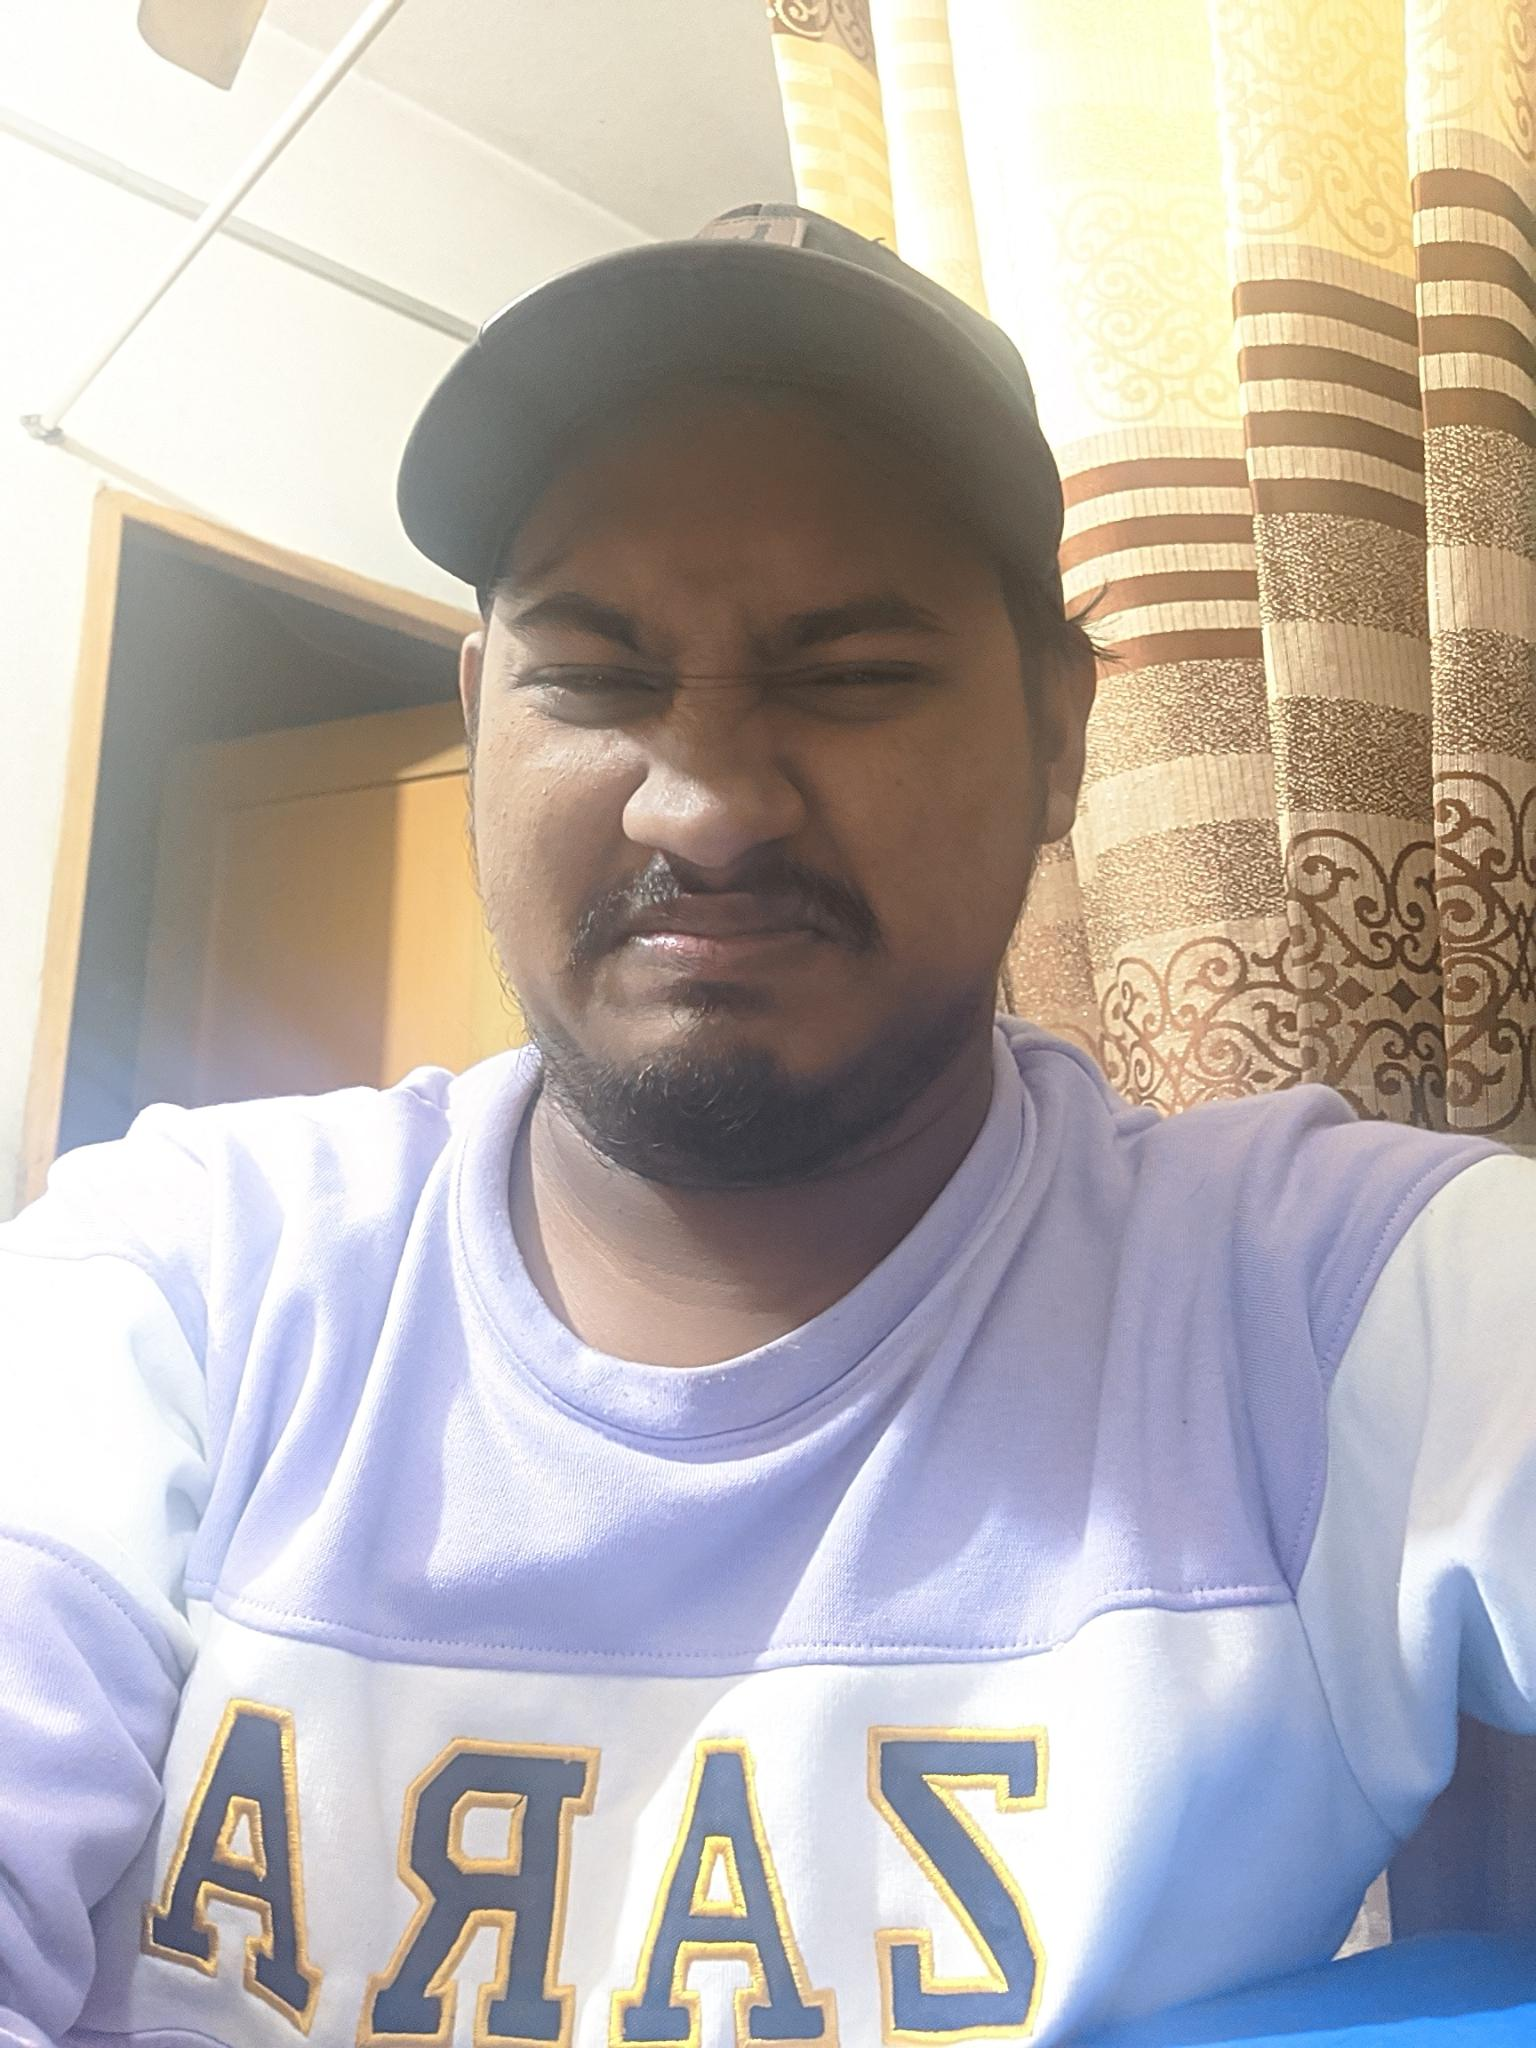Disgust: (440, 487, 1020, 1137)
